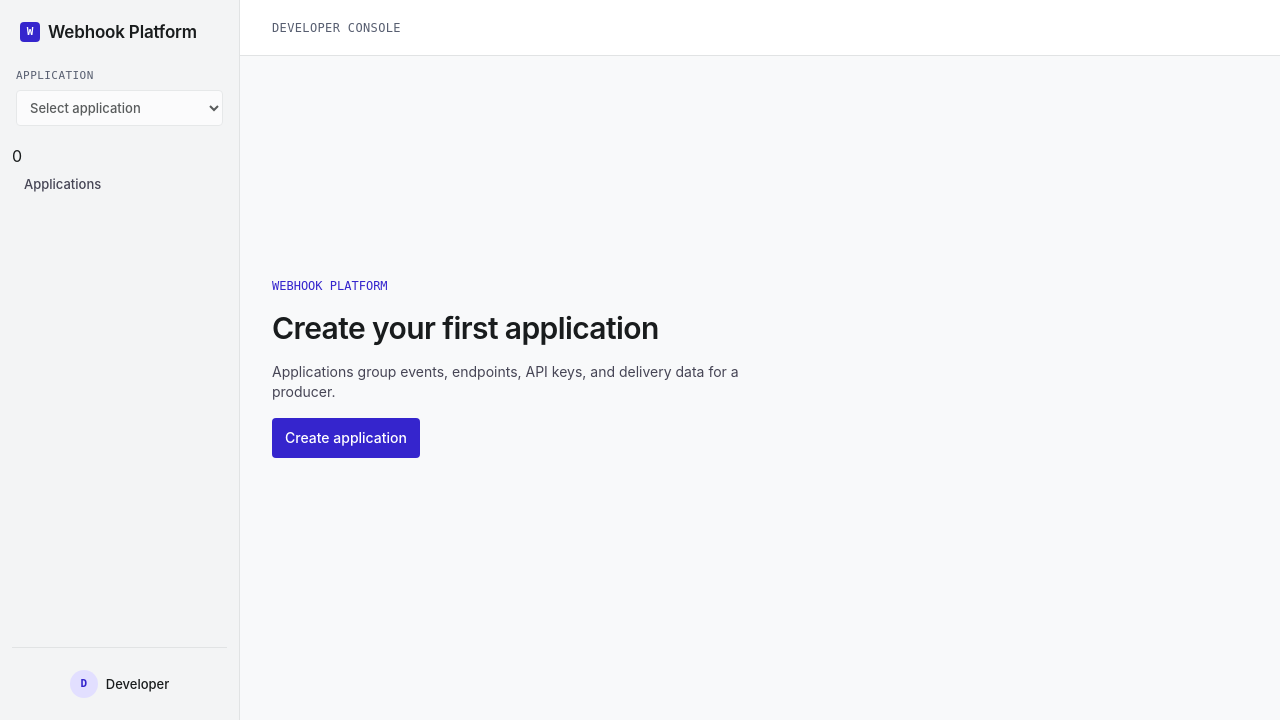
Test: validates locally and presents safe conflict errors without a mutation before client validation
Expected: the heading "Create your first application" is shown, [272,310,659,346]
Click the button "Create application" at (346, 438), box [272,418,420,458]
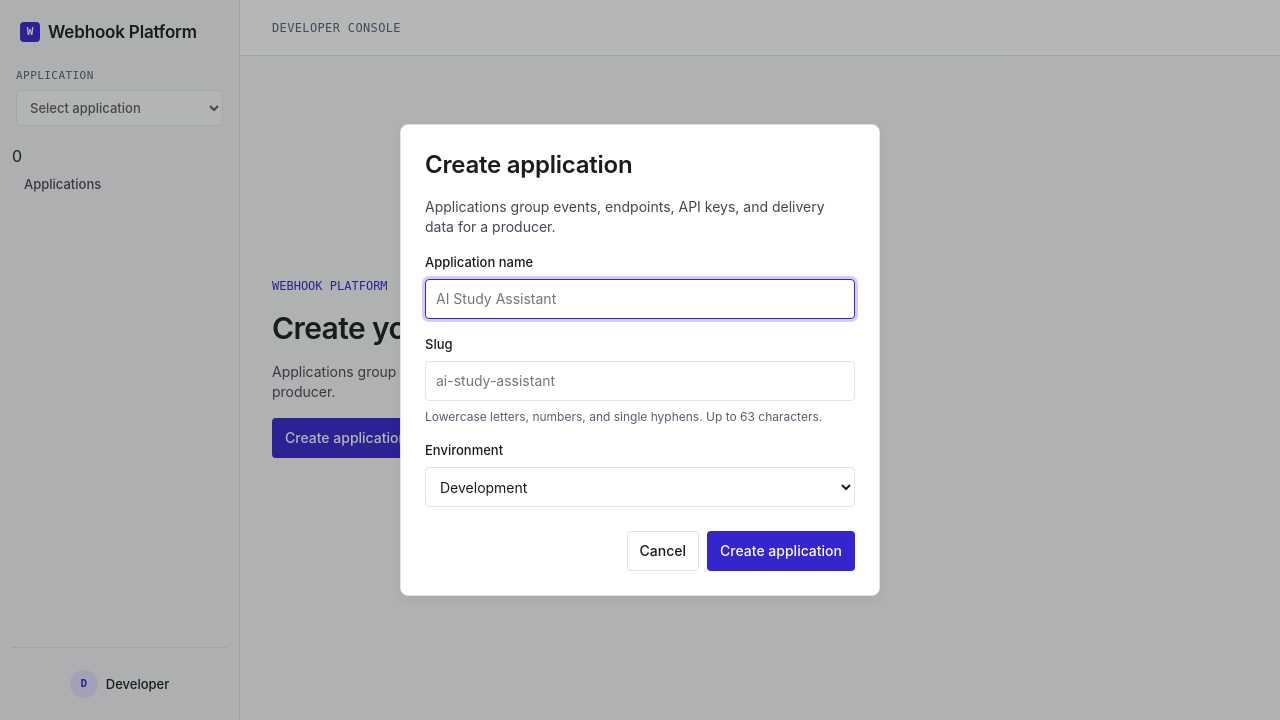
Click the button "Create application" at (781, 551), box [707,531,855,571]
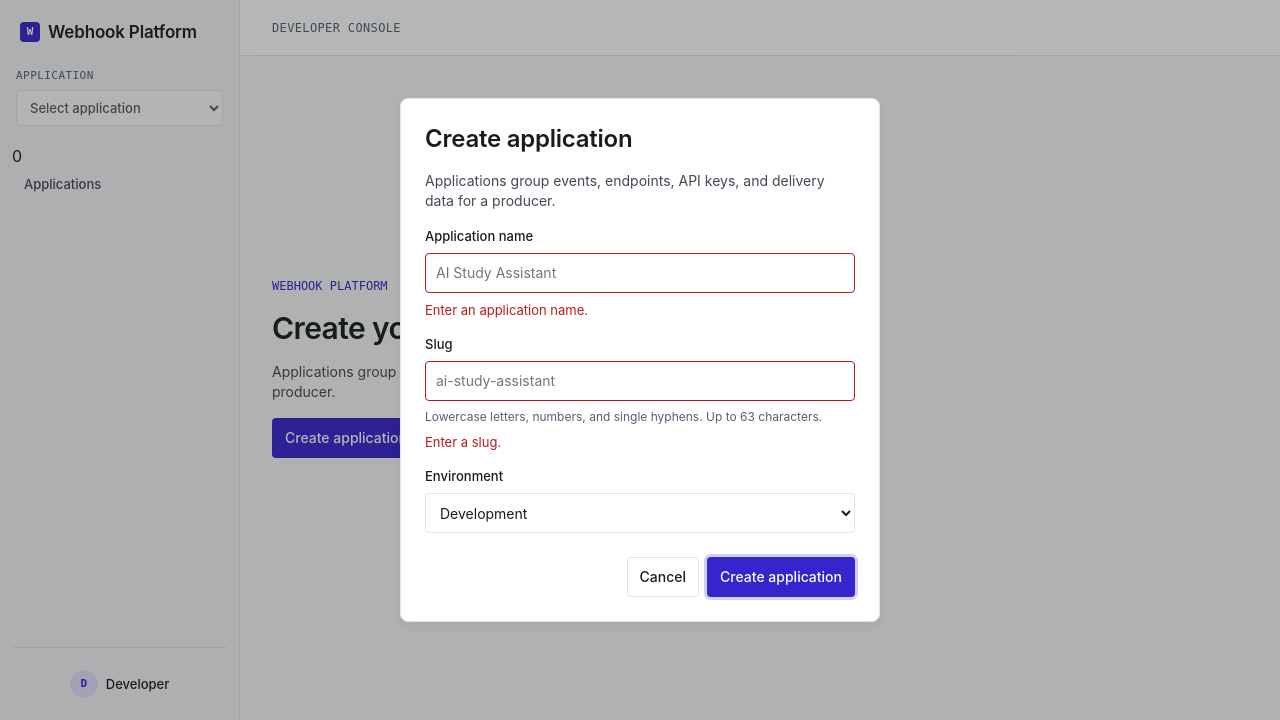
Expected: the text "Enter an application name." is shown, [425,302,588,318]
Expected: the text "Enter a slug." is shown, [425,434,501,450]
Type "Conflict" into the field labelled "Application name Enter an application name." at (640, 273), box [425,253,855,293]
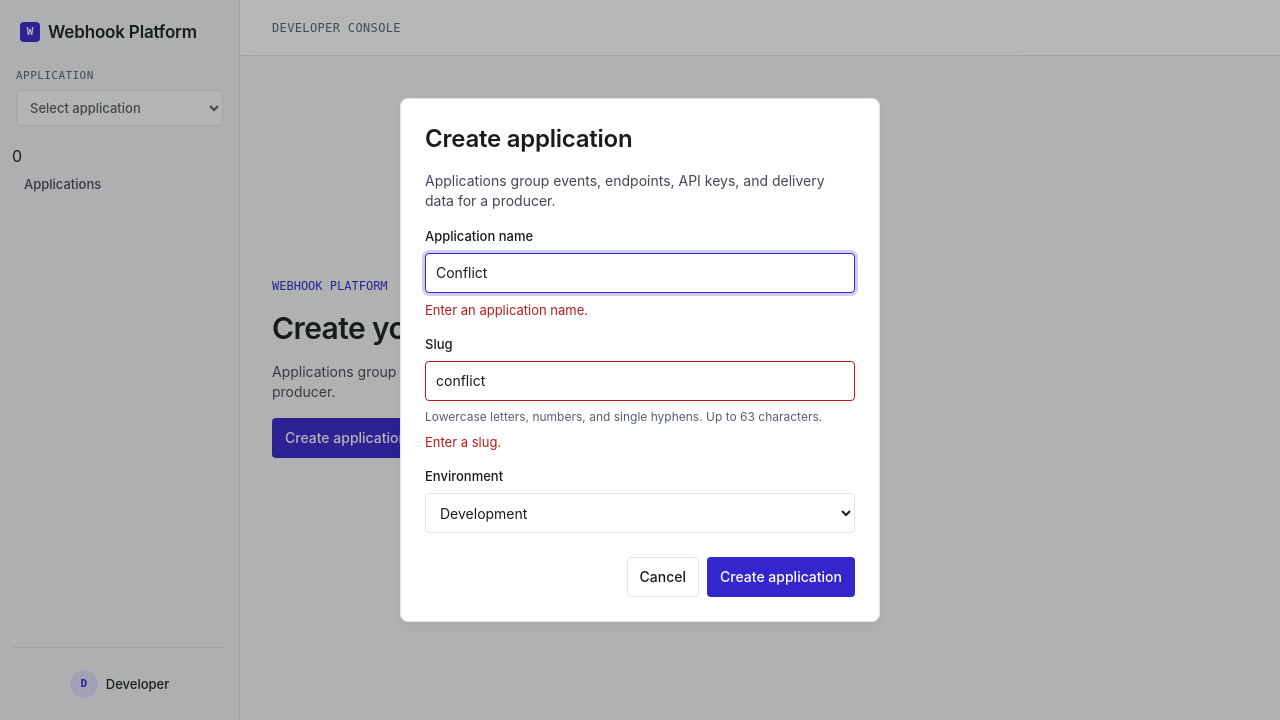
Click the button "Create application" at (781, 577), box [707,557,855,597]
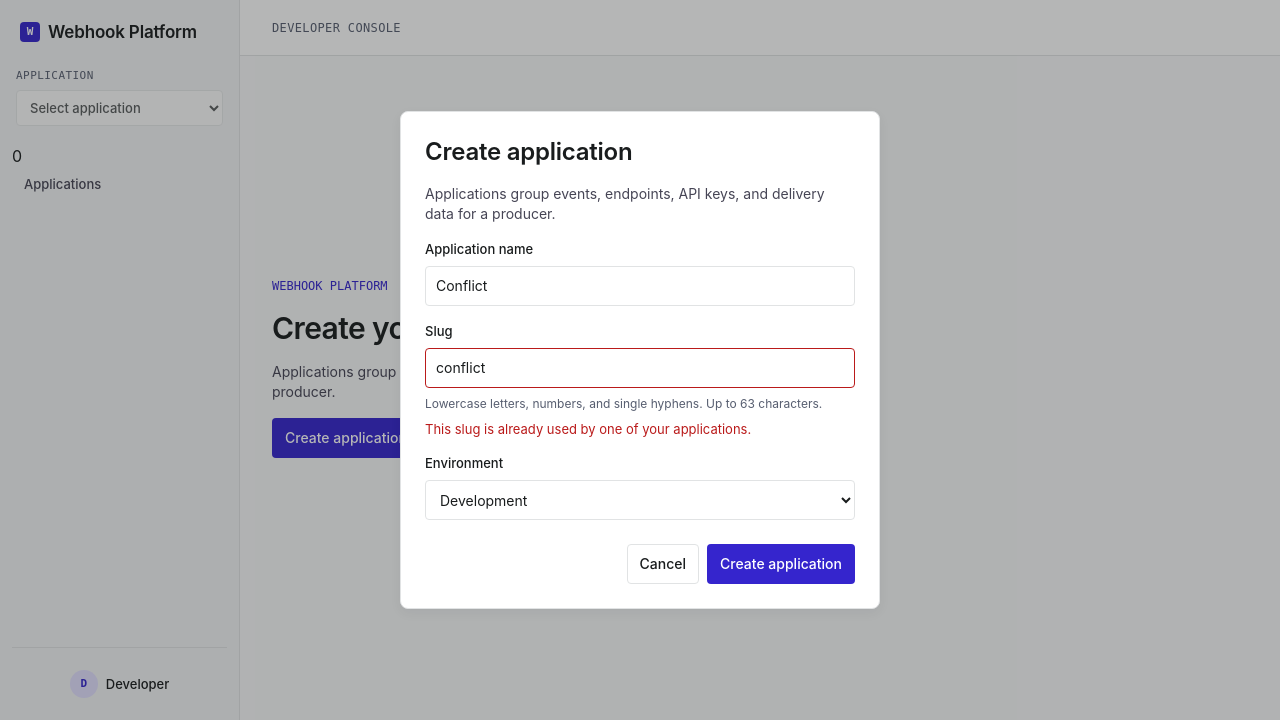
Expected: the text "This slug is already used by one of your applications." is shown, [425,421,751,437]
